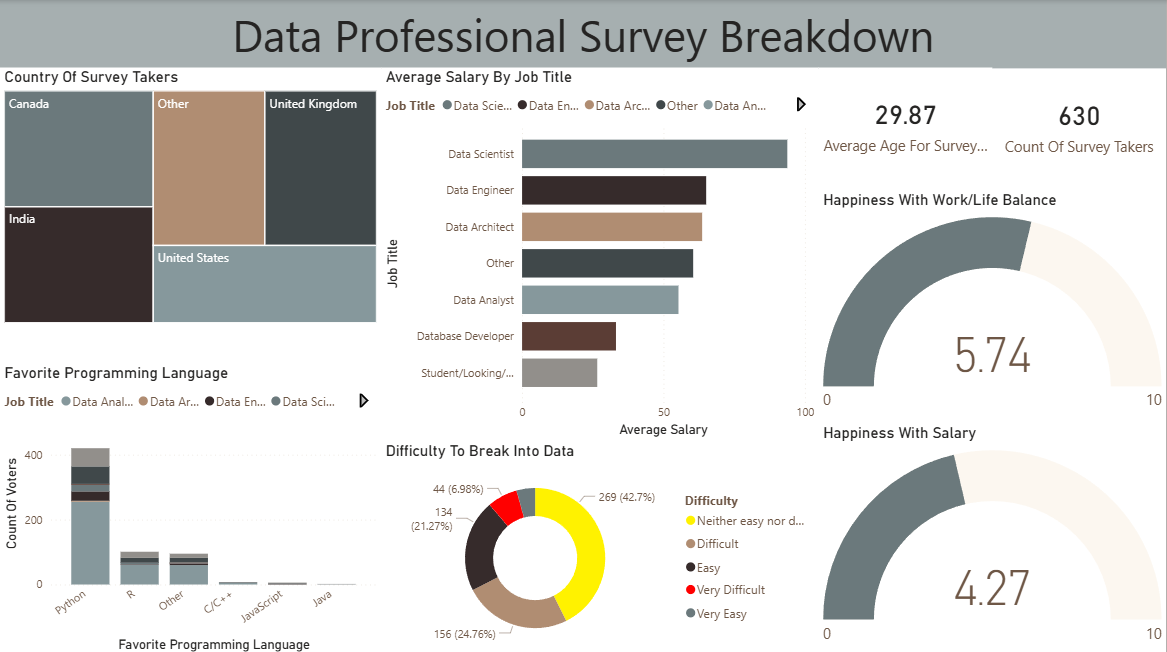

The page's visual inventory and layout, read from the dashboard file:
{"tool":"powerbi","page":{"name":"Page 1","canvas":[1280,720],"ordinal":0},"visuals":[{"type":"textbox","box":[0,0,1280.3,75.2],"z":0},{"type":"card","fields":{"Values":["Count(Data Professional Survey.Unique ID)"]},"box":[1089.5,75.5,190.7,122.1],"z":1000},{"type":"card","fields":{"Values":["Avg(Data Professional Survey.Q10 - Current Age)"]},"box":[898.8,74.1,190.7,122.1],"z":2000},{"type":"barChart","title":"Average Salary By Job Title","fields":{"Category":["Data Professional Survey.Q1 - Which Title Best Fits your Current Role?.1"],"Y":["Avg(Data Professional Survey.AverageSalary)"],"Series":["Data Professional Survey.Q1 - Which Title Best Fits your Current Role?.1"]},"box":[418.5,74.1,480.3,410.3],"z":3000},{"type":"columnChart","title":"Favorite Programming Language","fields":{"Category":["Data Professional Survey.Q5 - Favorite Programming Language.1"],"Y":["CountNonNull(Data Professional Survey.Unique ID)"],"Series":["Data Professional Survey.Q1 - Which Title Best Fits your Current Role?.1"]},"box":[0,398.9,418.5,321.1],"z":4000},{"type":"treemap","title":"Country Of Survey Takers","fields":{"Values":["Count(Data Professional Survey.Q11 - Which Country do you live in?.1)"],"Group":["Data Professional Survey.Q11 - Which Country do you live in?.1"]},"box":[0,74.1,418.5,285.4],"z":5000},{"type":"gauge","title":"Happiness With Work/Life Balance","fields":{"Y":["Avg(Data Professional Survey.Q6 - How Happy are you in your Current Position with the following? (Work/Life Balance))"],"MinValue":["Min(Data Professional Survey.Q6 - How Happy are you in your Current Position with the following? (Work/Life Balance))1"],"MaxValue":["Max(Data Professional Survey.Q6 - How Happy are you in your Current Position with the following? (Work/Life Balance))2"]},"box":[898.8,208.6,381.5,256.6],"z":6000},{"type":"gauge","title":"Happiness With Salary","fields":{"Y":["Avg(Data Professional Survey.Q6 - How Happy are you in your Current Position with the following? (Salary))"],"MinValue":["Min(Data Professional Survey.Q6 - How Happy are you in your Current Position with the following? (Salary))"],"MaxValue":["Max(Data Professional Survey.Q6 - How Happy are you in your Current Position with the following? (Salary))1"]},"box":[898.8,465.2,381.5,255.2],"z":7000},{"type":"donutChart","title":"Difficulty To Break Into Data","fields":{"Category":["Data Professional Survey.Q7 - How difficult was it for you to break into Data?"],"Y":["CountNonNull(Data Professional Survey.Q7 - How difficult was it for you to break into Data?)"]},"box":[418.5,484.4,480.3,236],"z":8000}]}

Visuals, with their boxes in screenshot pixels (x1, y1, x2, y2), scaled from the page's 1280x720 canvas onto the 1167x652 screenshot:
textbox: <region>0, 0, 1166, 68</region>
card - Count(Data Professional Survey.Unique ID): <region>993, 68, 1166, 179</region>
card - Avg(Data Professional Survey.Q10 - Current Age): <region>819, 67, 993, 178</region>
"Average Salary By Job Title" barChart: <region>382, 67, 819, 439</region>
"Favorite Programming Language" columnChart: <region>0, 361, 382, 651</region>
"Country Of Survey Takers" treemap: <region>0, 67, 382, 326</region>
"Happiness With Work/Life Balance" gauge: <region>819, 189, 1166, 421</region>
"Happiness With Salary" gauge: <region>819, 421, 1166, 651</region>
"Difficulty To Break Into Data" donutChart: <region>382, 439, 819, 651</region>
